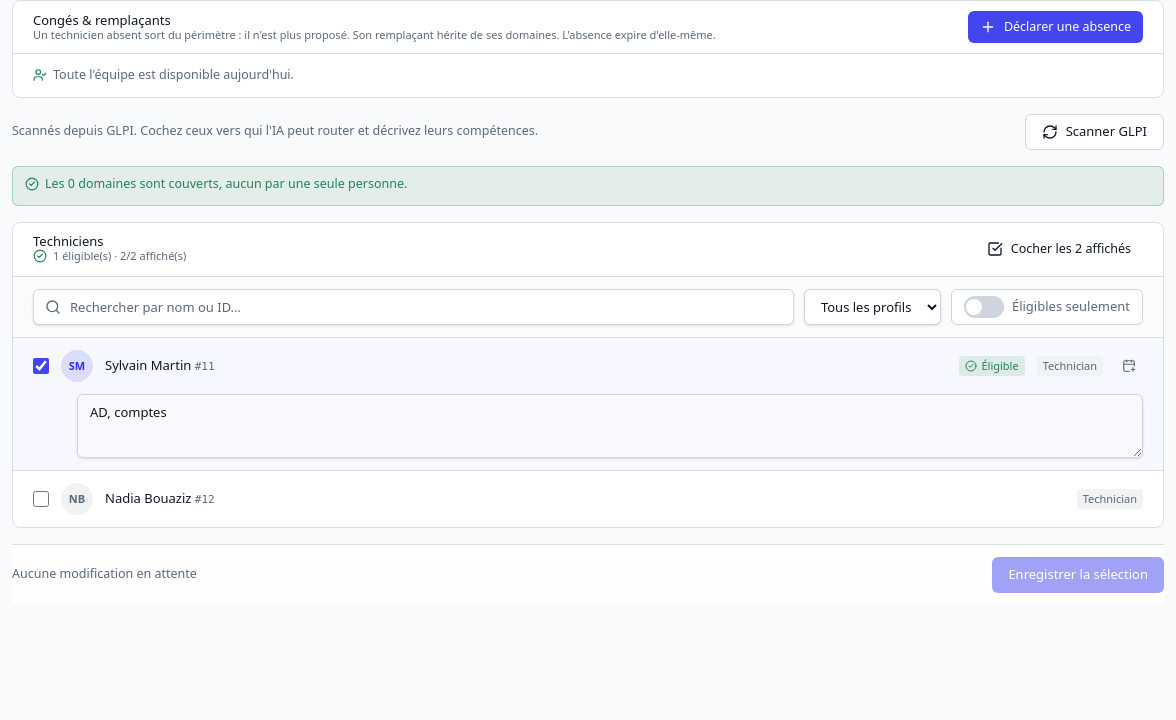
Test: Fusion du brouillon avec le serveur › un scan RAMÈNE la valeur serveur d'une fiche que l'admin n'a pas touchée
Check: the text box showing "AD, comptes" is shown, box [77,394,1143,458]
Click the button "Scanner GLPI": [1094, 132] box [1025,114,1164,150]
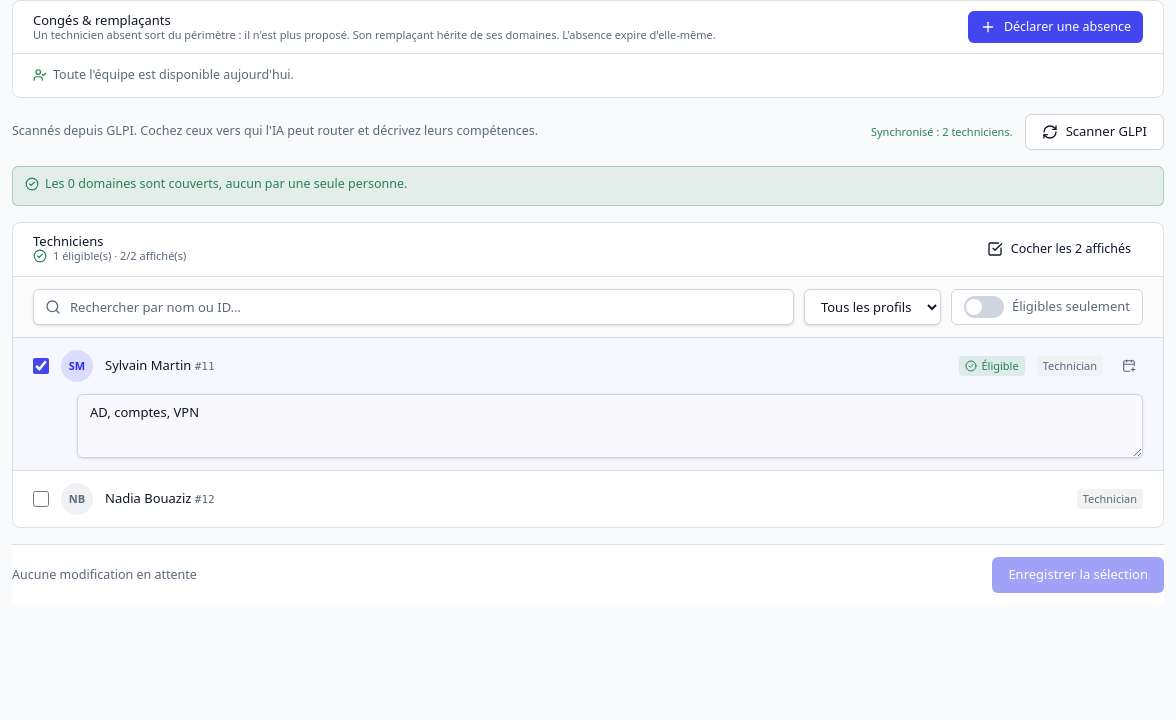
Check: the text "Aucune modification en attente" is shown, box [12,566,197,584]
Check: the text box showing "AD, comptes, VPN" is shown, box [77,394,1143,458]
